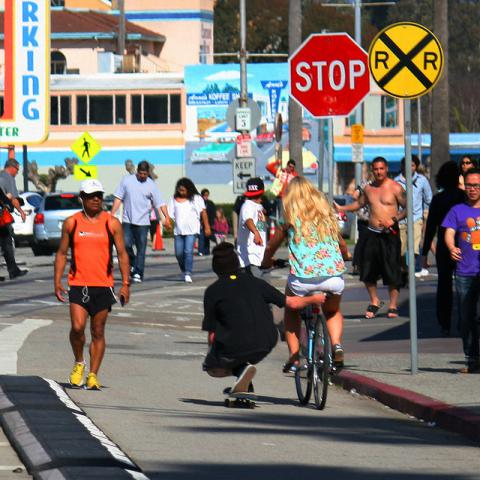car: (33, 188, 82, 256), (14, 190, 42, 236), (333, 194, 355, 237)
